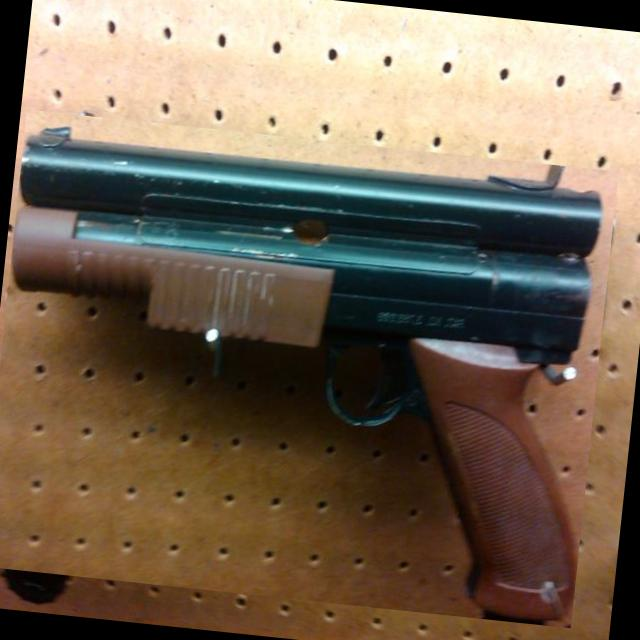Gun: (12, 129, 602, 625)
